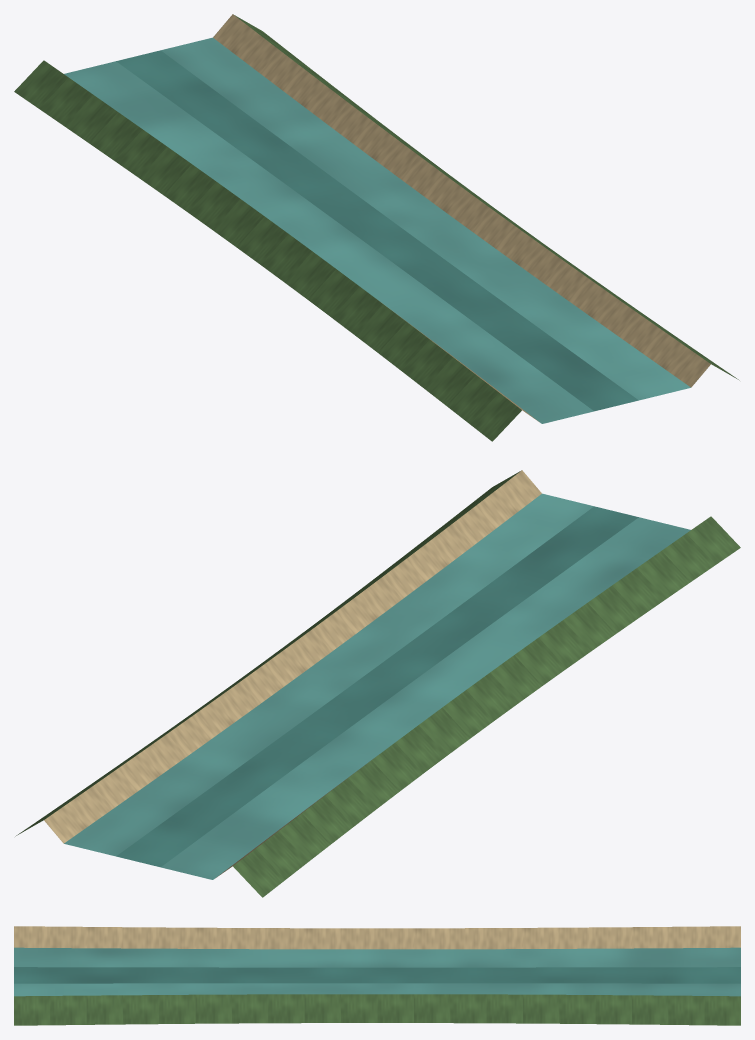
Rendered from stream_small.fbx.
3 renders of one model, top to bottom at view 1: azimuth 30°, elevation 25°; view 2: azimuth 150°, elevation 25°; view 3: azimuth 270°, elevation 25°, orthographic. The views are drawn at different scales.
Parts seen in each view (by area): view 1: stream_small; view 2: stream_small; view 3: stream_small.
Boxes of the visible parts, x1,y1,x2,y2 form: stream_small: (14, 14, 739, 441); stream_small: (15, 470, 740, 897); stream_small: (14, 926, 740, 1025).
Size of the model in its own units: 300 by 28 by 1000.
2 materials, 2 textured.
